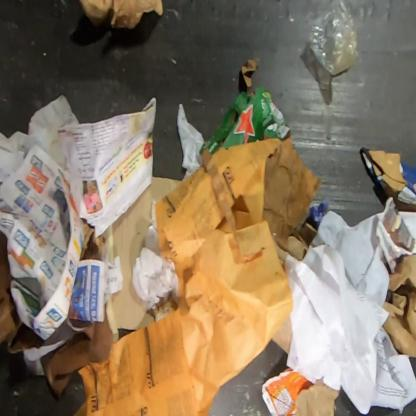cardboard: (199, 59, 323, 251), (106, 176, 183, 344), (39, 301, 113, 400), (361, 146, 415, 214), (77, 0, 164, 30), (271, 220, 318, 274), (0, 227, 14, 306), (271, 314, 293, 354)
rigid_plastic: (308, 0, 360, 77)
